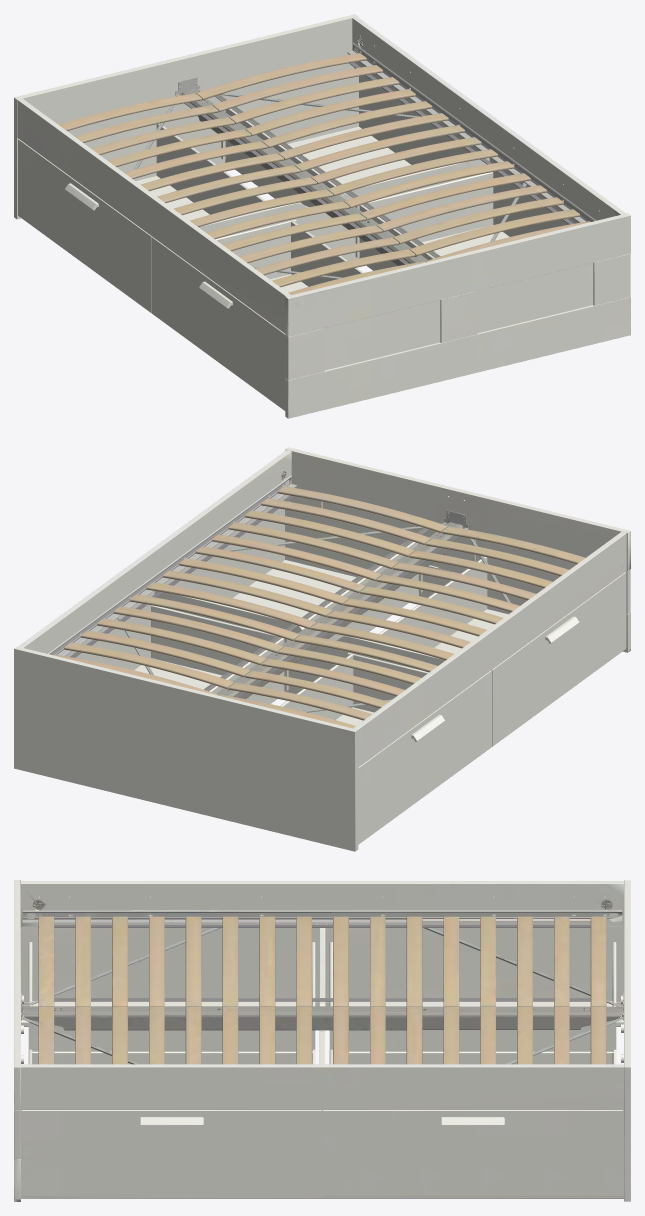
The picture shows the model from 3 angles, top to bottom: view 1: azimuth 30°, elevation 25°; view 2: azimuth 150°, elevation 25°; view 3: azimuth 270°, elevation 25°; orthographic projection. The views are drawn at different scales.
Size of the model in its own units: 1.45 by 0.47 by 1.95.
Materials: 1 (1 with a texture image).
